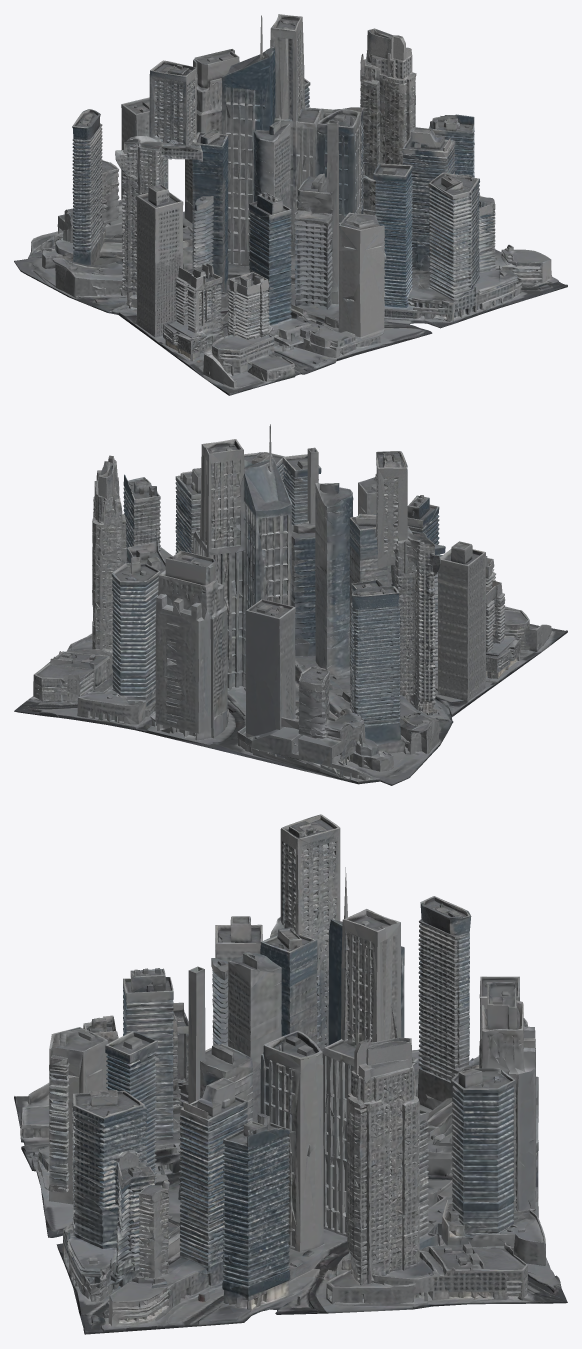
File: city.glb
The picture shows the model from 3 angles, top to bottom: view 1: azimuth 30°, elevation 25°; view 2: azimuth 150°, elevation 25°; view 3: azimuth 270°, elevation 25°; orthographic projection. The views are drawn at different scales.
Parts seen in each view (by area): view 1: Mesh_0; view 2: Mesh_0; view 3: Mesh_0.
Boxes of the visible parts, x1,y1,x2,y2 form: Mesh_0: (14,14,567,395); Mesh_0: (14,424,567,785); Mesh_0: (14,814,567,1334).
Bounding box in the file's own units: 1.89 × 1.15 × 1.73.
Materials: 1 (1 with a texture image).
